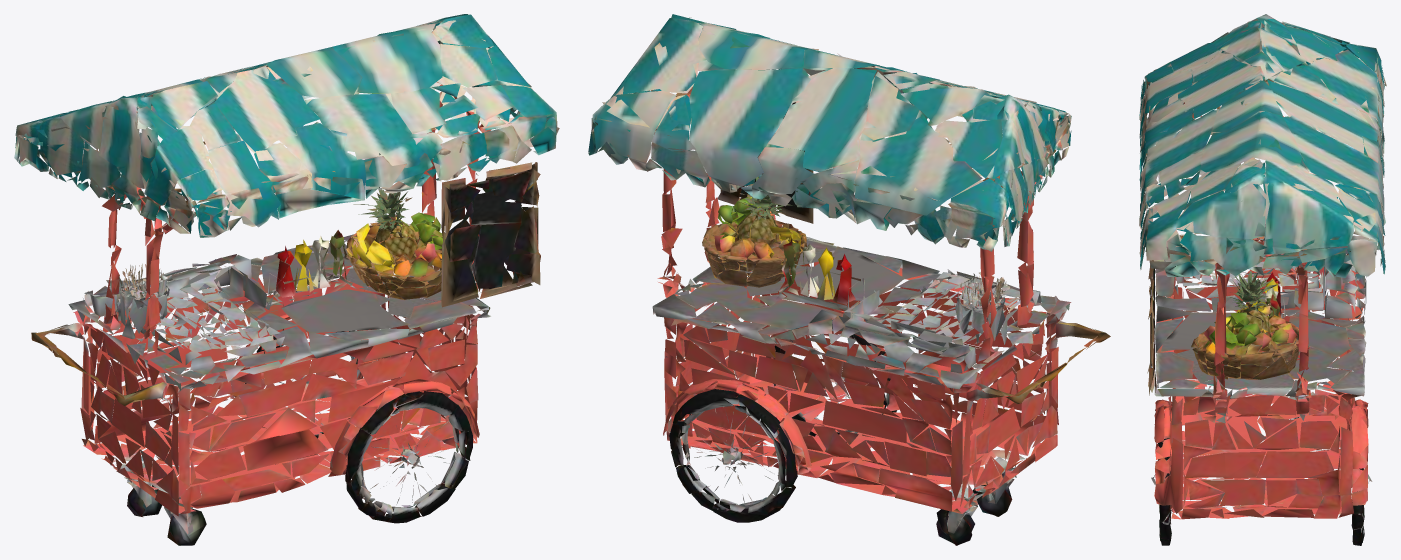
Rendered from food-cart.glb.
3 views of the same model, side by side, from view 1: azimuth 30°, elevation 25°; view 2: azimuth 150°, elevation 25°; view 3: azimuth 270°, elevation 25° (orthographic). The views are drawn at different scales.
Visible parts, largest first — view 1: Mesh_0; view 2: Mesh_0; view 3: Mesh_0.
Part boxes in pixels (left/top/right/bottom): Mesh_0: left=14, top=14, right=559, bottom=545; Mesh_0: left=588, top=14, right=1110, bottom=545; Mesh_0: left=1139, top=14, right=1386, bottom=545.
Bounding box in the file's own units: 1.91 × 1.9 × 1.01.
Materials: 1 (1 with a texture image).
